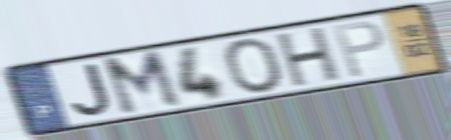4: (175, 44, 230, 102)
H: (275, 24, 343, 91)
J: (70, 61, 114, 119)
M: (99, 48, 186, 119)
O: (221, 36, 288, 96)
P: (331, 18, 387, 81)
